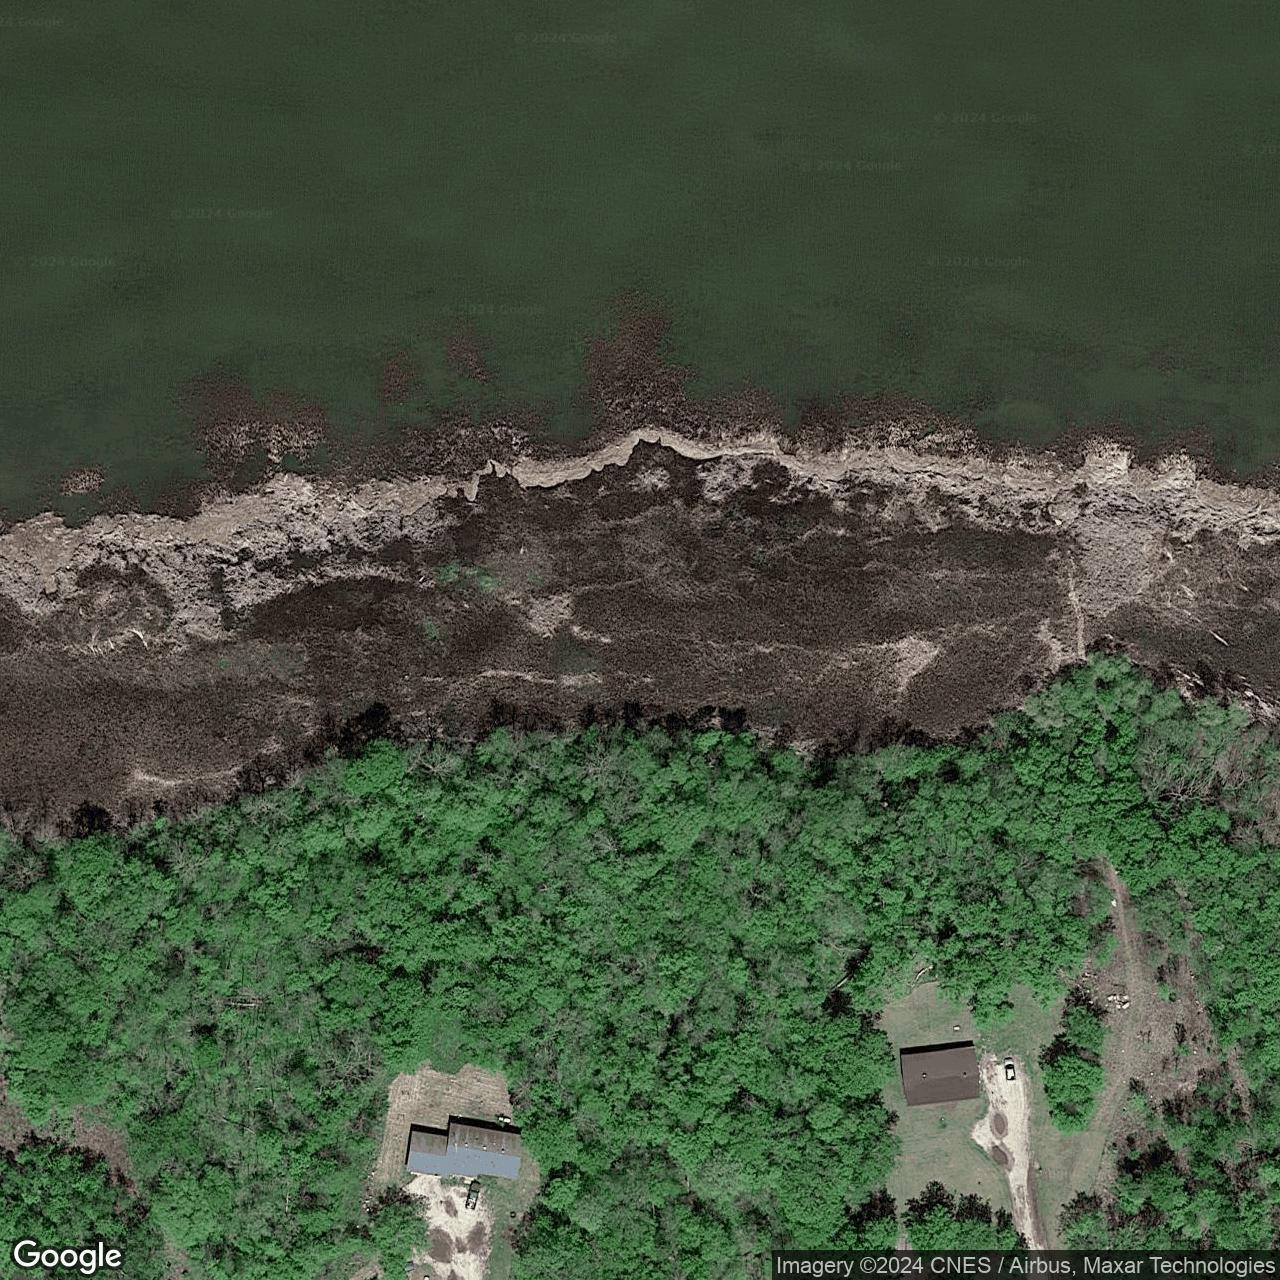House: (404, 1122, 525, 1180), (899, 1046, 981, 1108)
